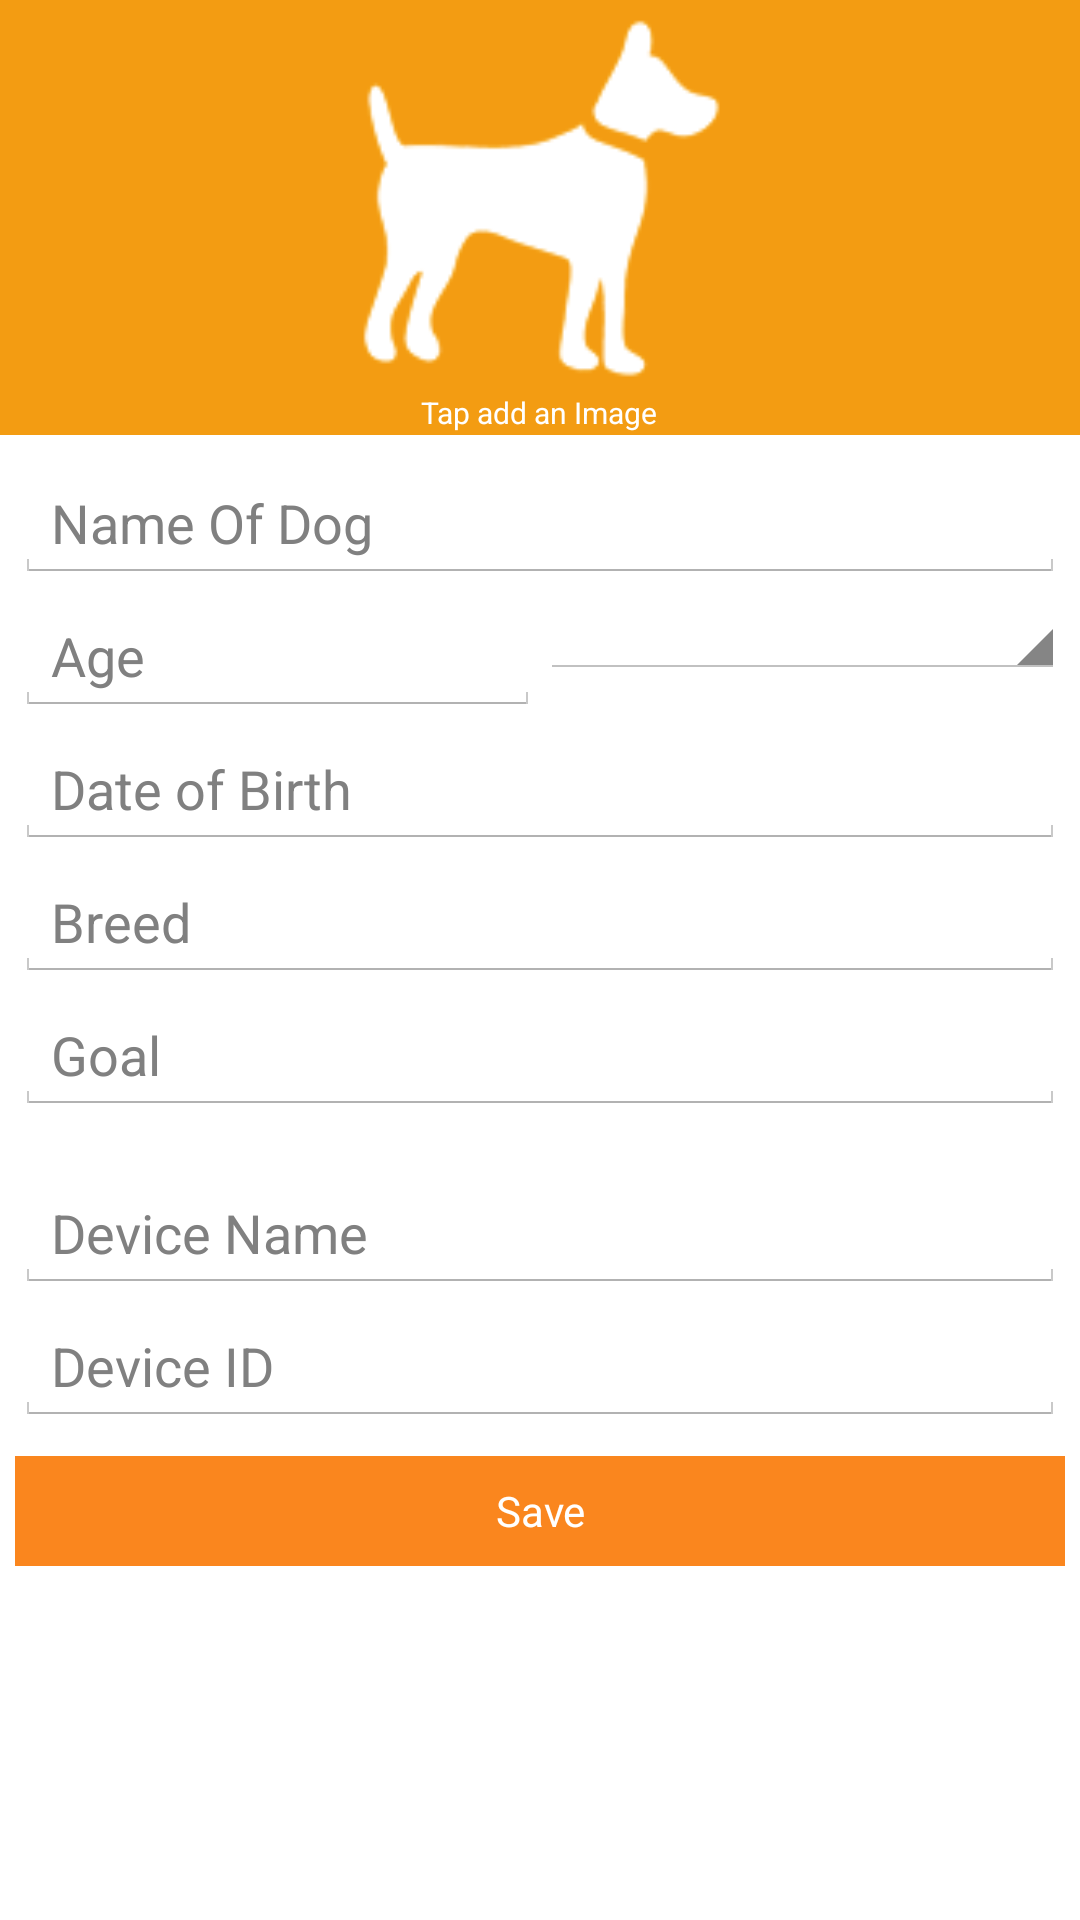

Icons on this 1080x1920 Android screen, each with its box as (x1, y1, x2, y2):
add dog: (363, 20, 720, 377)
